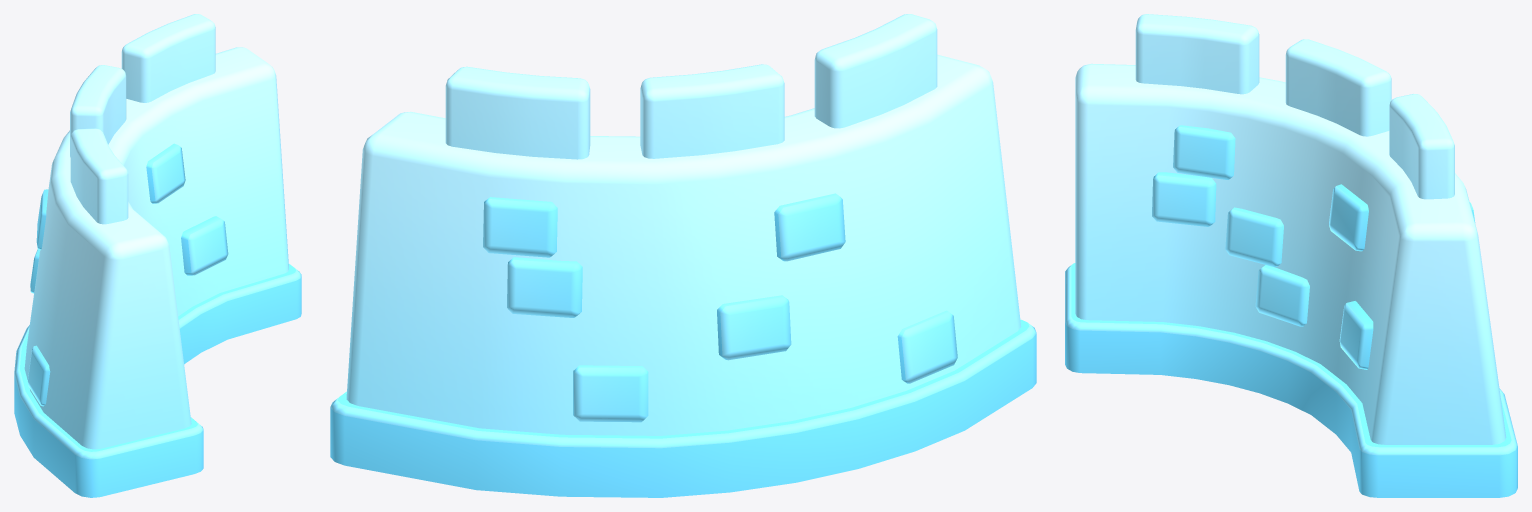
The model's file is wall_004.glb.
3 views of the same model, side by side, from view 1: azimuth 30°, elevation 25°; view 2: azimuth 150°, elevation 25°; view 3: azimuth 270°, elevation 25° (orthographic). The views are drawn at different scales.
Parts seen in each view (by area): view 1: wall_004; view 2: wall_004; view 3: wall_004.
Part boxes in pixels (x1,y1,x2,y2): wall_004: (14, 14, 301, 497); wall_004: (330, 14, 1036, 497); wall_004: (1065, 14, 1517, 497).
Bounding box in the file's own units: 7.11 × 5.55 × 7.09.
1 material, 1 textured.
